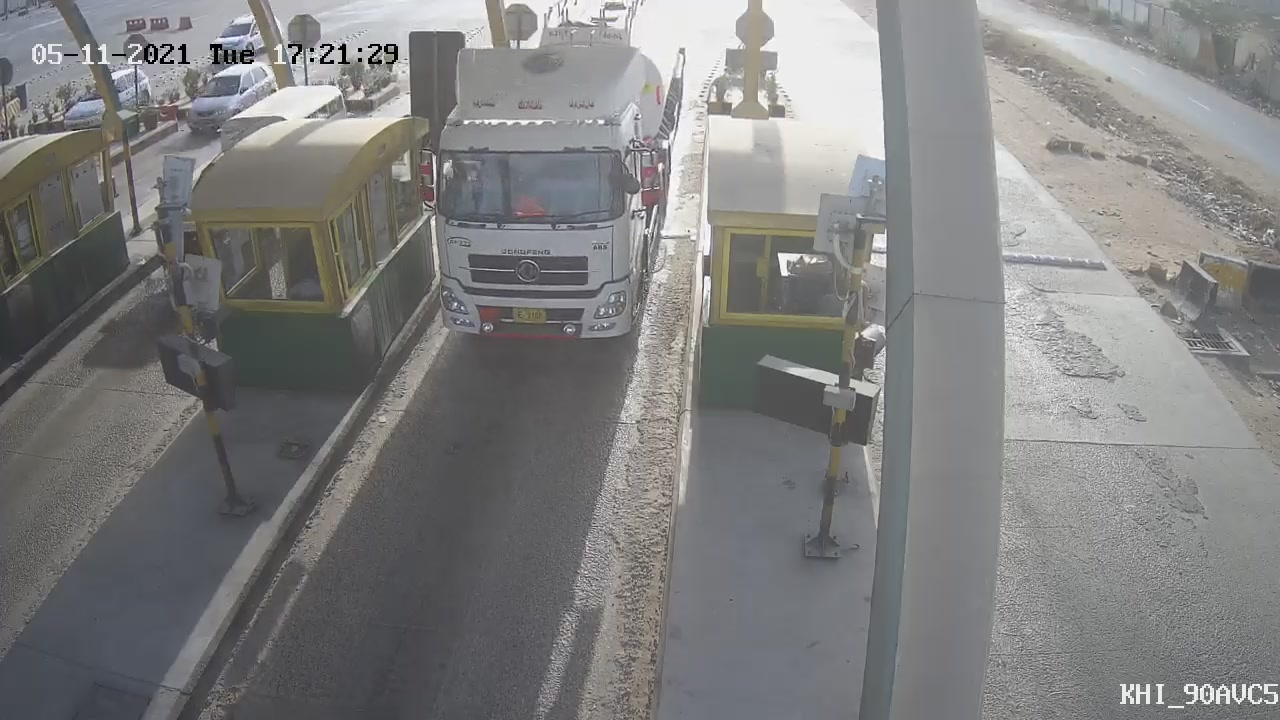F6: (392, 4, 705, 373)
